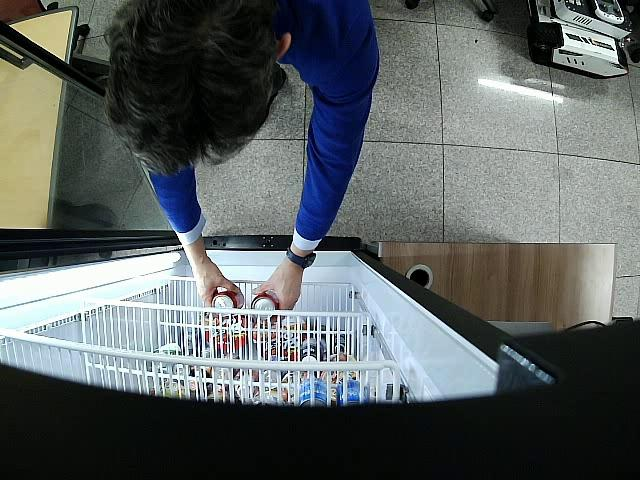00_hand: (252, 264, 302, 323), (192, 251, 241, 307)
11_cocaColaZero: (251, 291, 278, 321), (212, 290, 244, 308)
